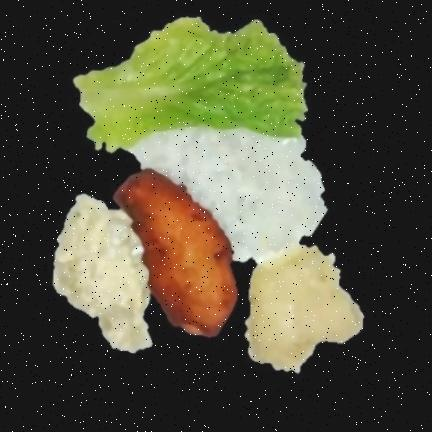chicken: (114, 169, 238, 335)
potato: (247, 247, 362, 372)
rice: (132, 127, 327, 261)
salad: (75, 17, 307, 151)
